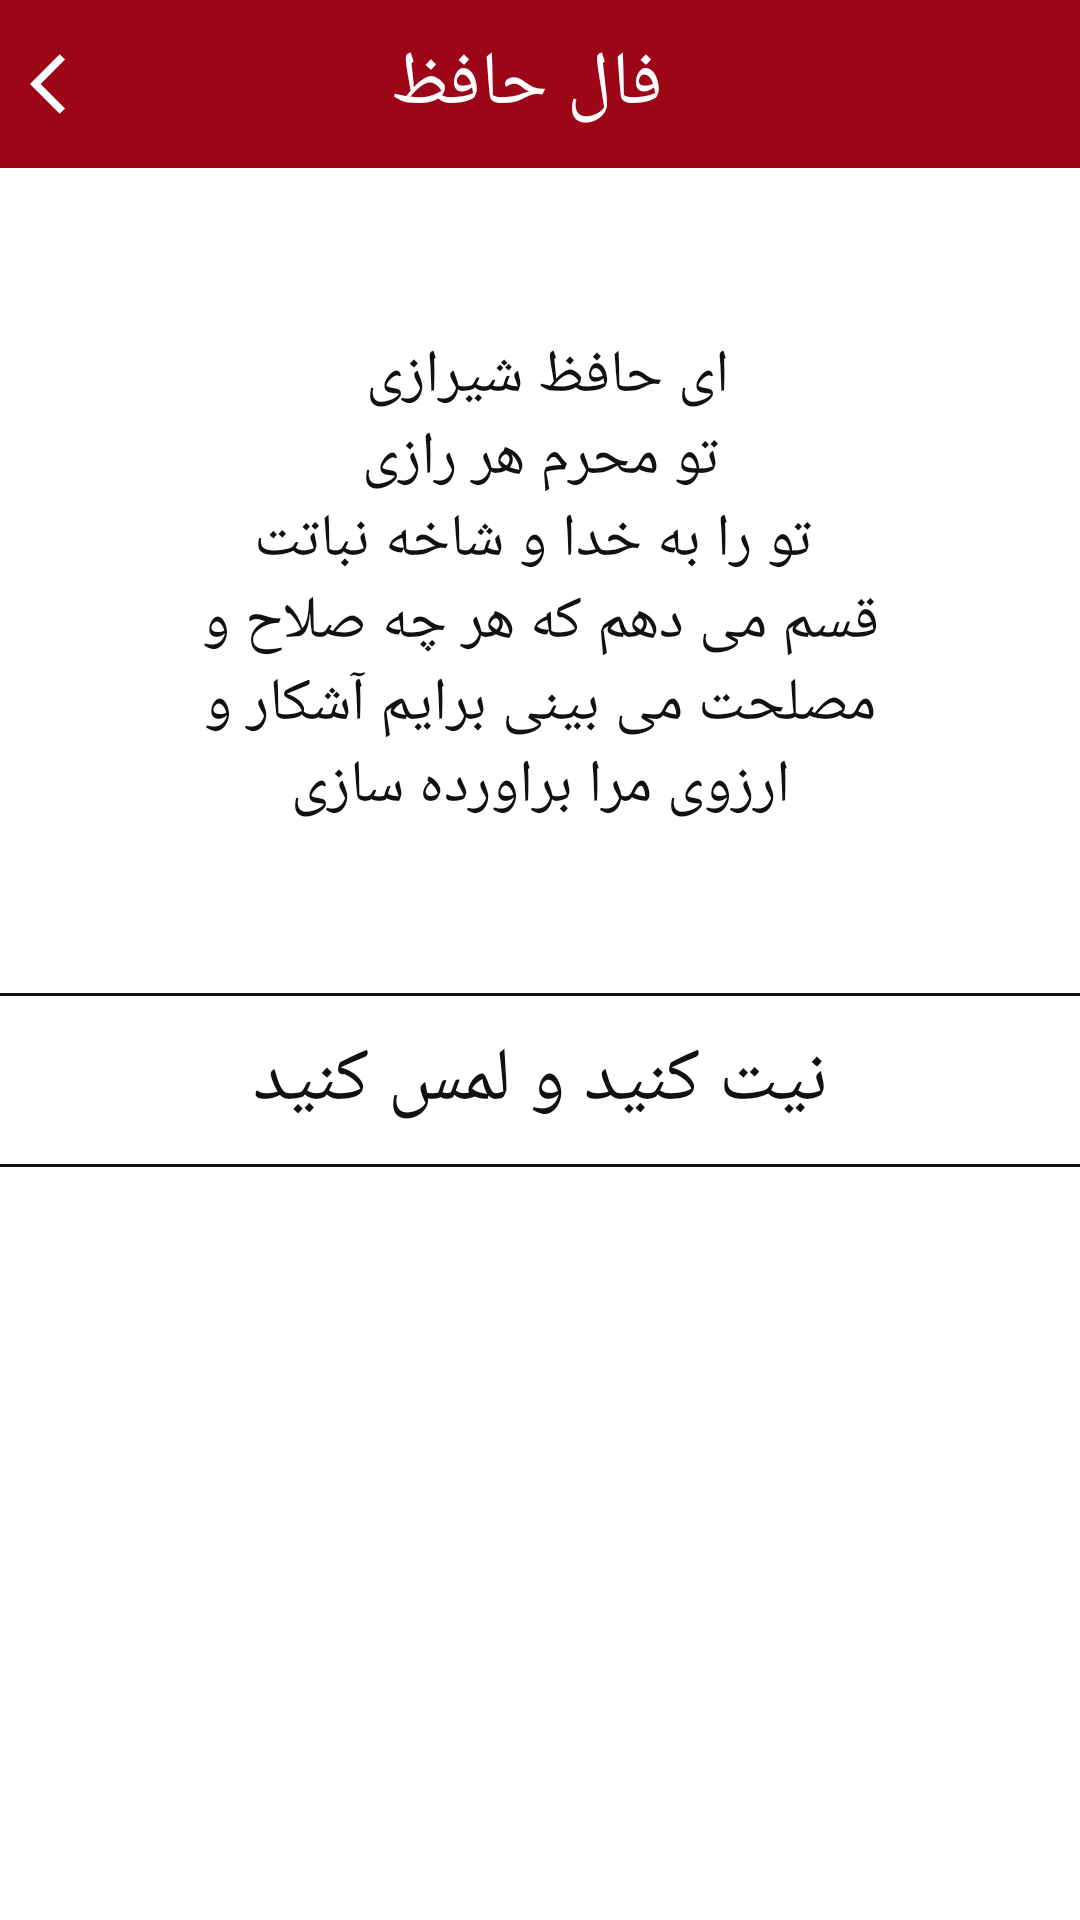

Named icons in this screenshot (1080*1920) and their bounding boxes, (x1, y1, x2, y2):
arrow back: (30, 54, 65, 114)
